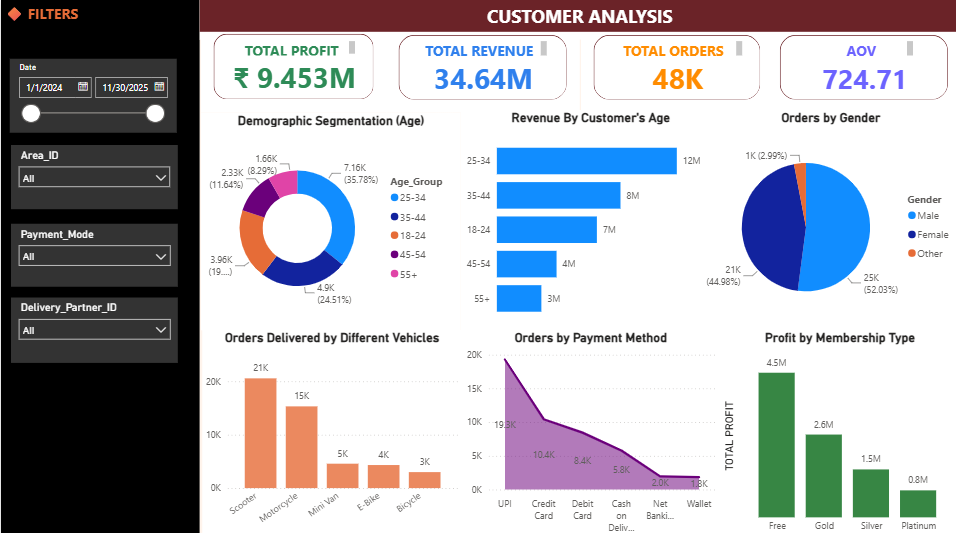

This screenshot's page, from the dashboard's own definition file:
{"tool":"powerbi","page":{"name":"Customer Analysis","canvas":[1280,720],"ordinal":3},"visuals":[{"type":"textbox","box":[0,0,265,720],"z":0},{"type":"slicer","fields":{"Values":["Dim_Calendar.Date"]},"box":[12.3,78.2,222.3,97.4],"z":1000},{"type":"slicer","fields":{"Values":["Dim_Area.Area_ID"]},"box":[12.8,193.9,222.4,85.5],"z":2000},{"type":"slicer","fields":{"Values":["Fact_Sales.Payment_Mode"]},"box":[12.5,297.5,222.5,83.8],"z":3000},{"type":"slicer","fields":{"Values":["Fact_Sales.Delivery_Partner_ID"]},"box":[12.5,396.2,222.5,87.5],"z":4000},{"type":"textbox","box":[265,0,1015,52.5],"z":5000},{"type":"cardVisual","title":"Tota","fields":{"Data":["Fact_Sales.Total Profit"]},"box":[266.2,28.8,247.5,121.2],"z":6000},{"type":"cardVisual","fields":{"Data":["Fact_Sales.Total Revenue"]},"box":[513.8,30,258.8,120],"z":7000},{"type":"cardVisual","fields":{"Data":["Fact_Sales.Total Orders"]},"box":[772.5,30,256.2,120],"z":8000},{"type":"cardVisual","title":"AOV","fields":{"Data":["Fact_Sales.AOV"]},"box":[1021.2,30,258.8,120],"z":9000},{"type":"donutChart","title":"Demographic Segmentation (Age)","fields":{"Y":["CountNonNull(Dim_Customer.Customer_ID)"],"Category":["Dim_Customer.Age_Group"]},"box":[266.2,150,346.2,290],"z":10000},{"type":"clusteredBarChart","title":"Revenue By Customer''s Age","fields":{"Y":["Fact_Sales.TOTAL REVENUE"],"Category":["Dim_Customer.Age_Group"]},"box":[612.5,146.2,346.2,293.8],"z":11000},{"type":"stackedAreaChart","title":"Orders by Payment Method","fields":{"Category":["Fact_Sales.Payment_Mode"],"Y":["Fact_Sales.TOTAL ORDERS"]},"box":[612.5,440,346.2,280],"z":12000},{"type":"pieChart","title":"Orders by Gender","fields":{"Category":["Dim_Customer.Gender"],"Y":["Fact_Sales.TOTAL ORDERS"]},"box":[933.8,146.2,346.2,293.8],"z":13000},{"type":"clusteredColumnChart","title":"Orders Delivered by Different Vehicles","fields":{"Category":["Dim_DeliveryPartner.Vehicle_Type"],"Y":["Fact_Sales.TOTAL ORDERS"]},"box":[267.5,440,346.2,280],"z":14000},{"type":"columnChart","title":"Profit by Membership Type","fields":{"Category":["Dim_Customer.Membership_Type"],"Y":["Fact_Sales.TOTAL PROFIT"]},"box":[959,440,321,280],"z":15000},{"type":"textbox","box":[265.4,0,1013.4,42.2],"z":16000},{"type":"textbox","box":[300.4,50.7,177.3,29],"z":17000},{"type":"textbox","box":[551.3,50.7,181,31.4],"z":18000},{"type":"textbox","box":[805.9,50.7,187,31.4],"z":19000},{"type":"textbox","box":[1079.8,50.7,141.2,31.4],"z":20000}]}

Visuals, with their boxes in screenshot pixels (x1, y1, x2, y2), scaled from the page's 1280x720 canvas onto the 956x533 screenshot:
textbox: detection(0, 0, 198, 532)
slicer - Dim_Calendar.Date: detection(9, 58, 175, 130)
slicer - Dim_Area.Area_ID: detection(10, 144, 176, 207)
slicer - Fact_Sales.Payment_Mode: detection(9, 220, 176, 282)
slicer - Fact_Sales.Delivery_Partner_ID: detection(9, 293, 176, 358)
textbox: detection(198, 0, 955, 39)
"Tota" cardVisual: detection(199, 21, 384, 111)
cardVisual - Fact_Sales.Total Revenue: detection(384, 22, 577, 111)
cardVisual - Fact_Sales.Total Orders: detection(577, 22, 768, 111)
"AOV" cardVisual: detection(763, 22, 955, 111)
"Demographic Segmentation (Age)" donutChart: detection(199, 111, 457, 326)
"Revenue By Customer''s Age" clusteredBarChart: detection(457, 108, 716, 326)
"Orders by Payment Method" stackedAreaChart: detection(457, 326, 716, 532)
"Orders by Gender" pieChart: detection(697, 108, 955, 326)
"Orders Delivered by Different Vehicles" clusteredColumnChart: detection(200, 326, 458, 532)
"Profit by Membership Type" columnChart: detection(716, 326, 955, 532)
textbox: detection(198, 0, 955, 31)
textbox: detection(224, 38, 357, 59)
textbox: detection(412, 38, 547, 61)
textbox: detection(602, 38, 742, 61)
textbox: detection(806, 38, 912, 61)
